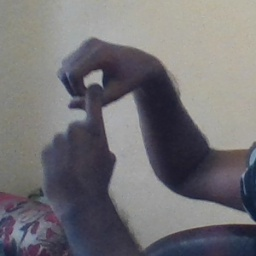Q: (34, 34, 151, 182)
